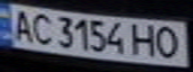1: (69, 16, 90, 52)
3: (51, 14, 75, 50)
4: (106, 19, 130, 55)
5: (87, 18, 109, 53)
A: (6, 7, 36, 43)
C: (27, 10, 57, 46)
H: (127, 21, 160, 57)
O: (151, 25, 184, 60)
